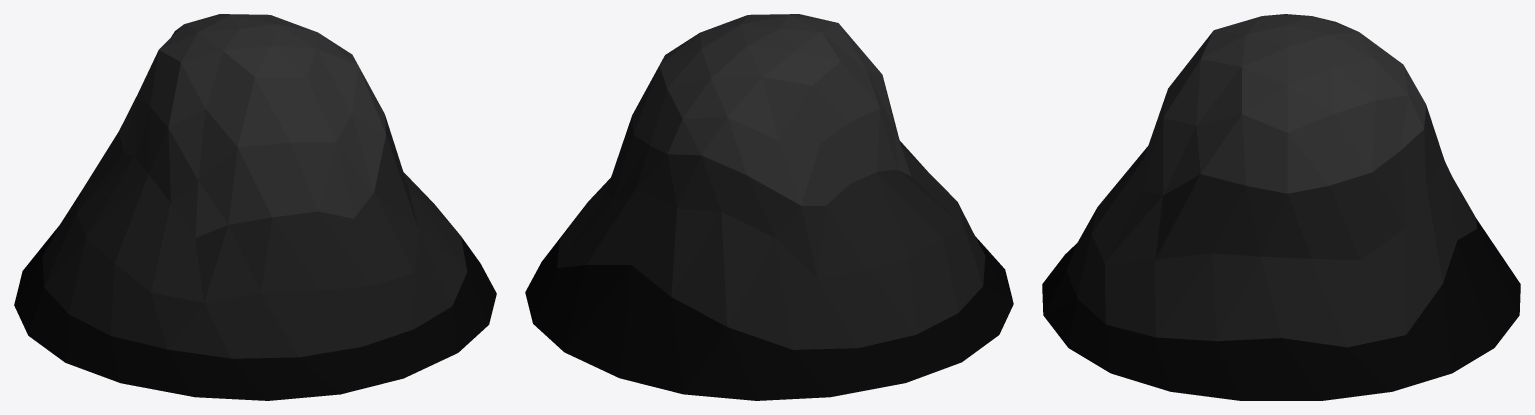
File: basura4.fbx
3 views of the same model, side by side, from view 1: azimuth 30°, elevation 25°; view 2: azimuth 150°, elevation 25°; view 3: azimuth 270°, elevation 25° (orthographic).
Parts seen in each view (by area): view 1: Basura4; view 2: Basura4; view 3: Basura4.
Boxes of the visible parts, x1,y1,x2,y2 form: Basura4: (14,14,496,400); Basura4: (525,14,1013,400); Basura4: (1042,14,1520,400).
Bounding box in the file's own units: 1530 × 955 × 1535.
Materials: 1 (1 with a texture image).
